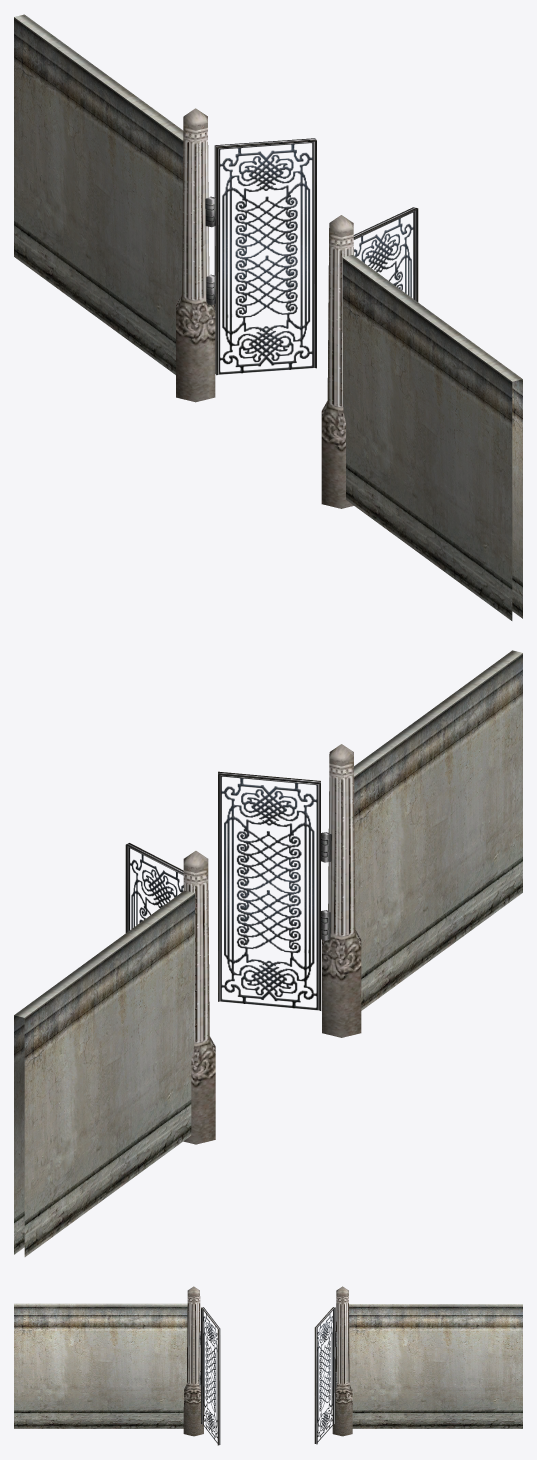
The model's file is rd_fen6.glb.
3 views of the same model, one above another, from view 1: azimuth 30°, elevation 25°; view 2: azimuth 150°, elevation 25°; view 3: azimuth 270°, elevation 25° (orthographic). The views are drawn at different scales.
Visible parts, largest first — view 1: rd_fen6-col; view 2: rd_fen6-col; view 3: rd_fen6-col.
Part boxes in pixels (box(x1,y1,x2,y2)): rd_fen6-col: box(14, 14, 522, 620); rd_fen6-col: box(14, 650, 522, 1256); rd_fen6-col: box(14, 1286, 522, 1445).
Bounding box in the file's own units: 1.98 × 4.48 × 14.23.
3 materials, 3 textured.
